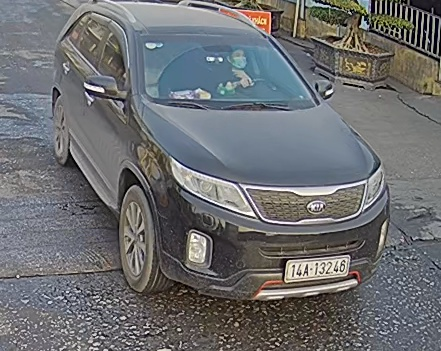vehicle plate: (280, 253, 352, 280)
